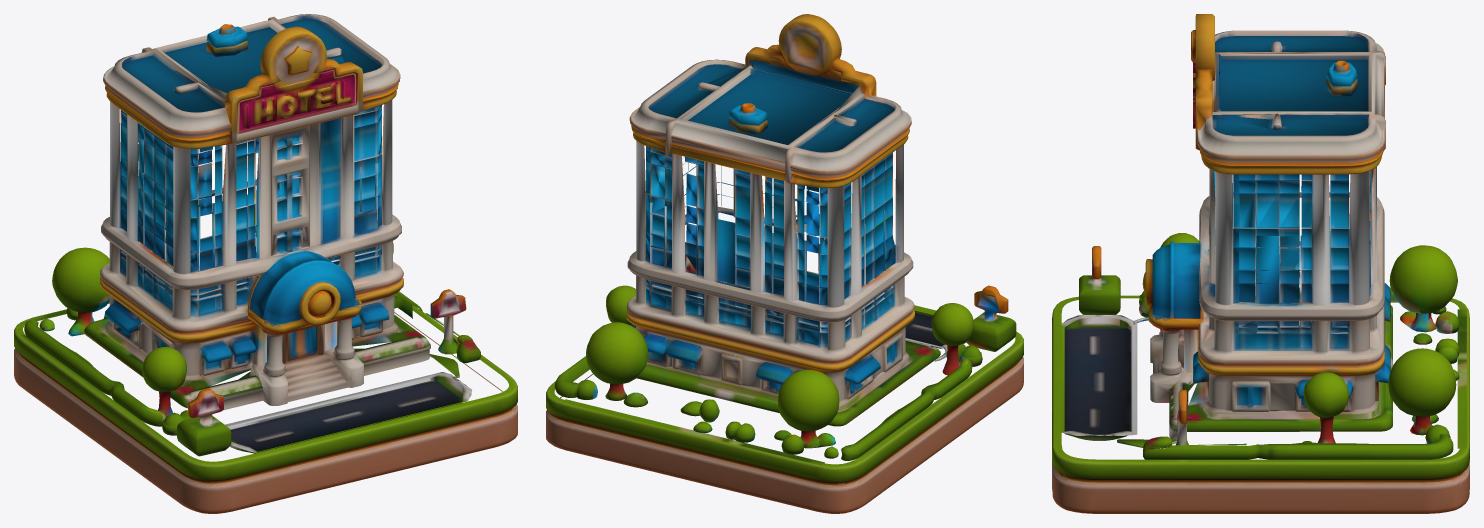
The model's file is hotel_1.glb.
3 renders of one model, left to right at view 1: azimuth 30°, elevation 25°; view 2: azimuth 150°, elevation 25°; view 3: azimuth 270°, elevation 25°, orthographic. The views are drawn at different scales.
Visible parts, largest first — view 1: tripo_node_df9ceb89; view 2: tripo_node_df9ceb89; view 3: tripo_node_df9ceb89.
Boxes of the visible parts, bbox=[...] form: tripo_node_df9ceb89: bbox=[14, 14, 517, 513]; tripo_node_df9ceb89: bbox=[546, 14, 1023, 513]; tripo_node_df9ceb89: bbox=[1052, 14, 1469, 513].
Bounding box in the file's own units: 0.8748 × 1 × 0.9159.
1 material, 1 textured.
